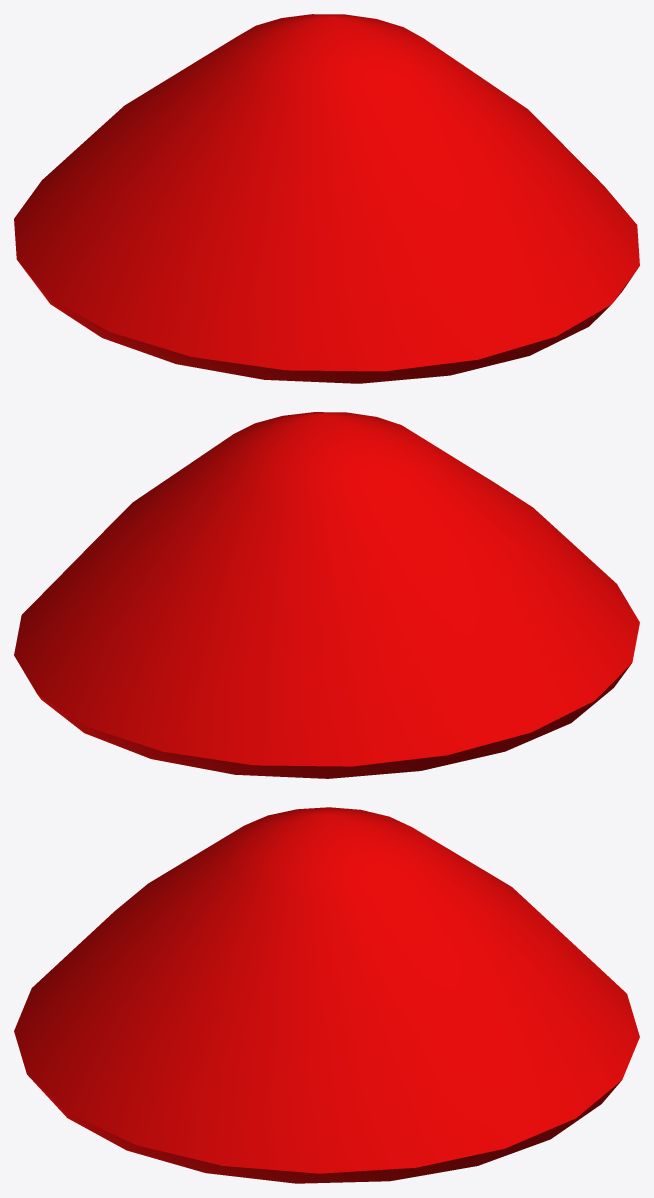
Rendered from propeller_cover1.fbx.
3 renders of one model, top to bottom at view 1: azimuth 30°, elevation 25°; view 2: azimuth 150°, elevation 25°; view 3: azimuth 270°, elevation 25°, orthographic.
Visible parts, largest first — view 1: polySurface18; view 2: polySurface18; view 3: polySurface18.
Part boxes in pixels (x1,y1,x2,y2): polySurface18: [14, 14, 639, 383]; polySurface18: [14, 412, 639, 778]; polySurface18: [14, 807, 639, 1183].
Bounding box in the file's own units: 0.6036 × 0.2612 × 0.6038.
